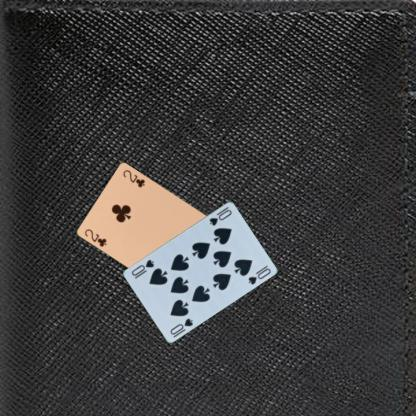10s: (207, 207, 233, 227), (168, 316, 194, 336)
2c: (82, 226, 108, 248)
